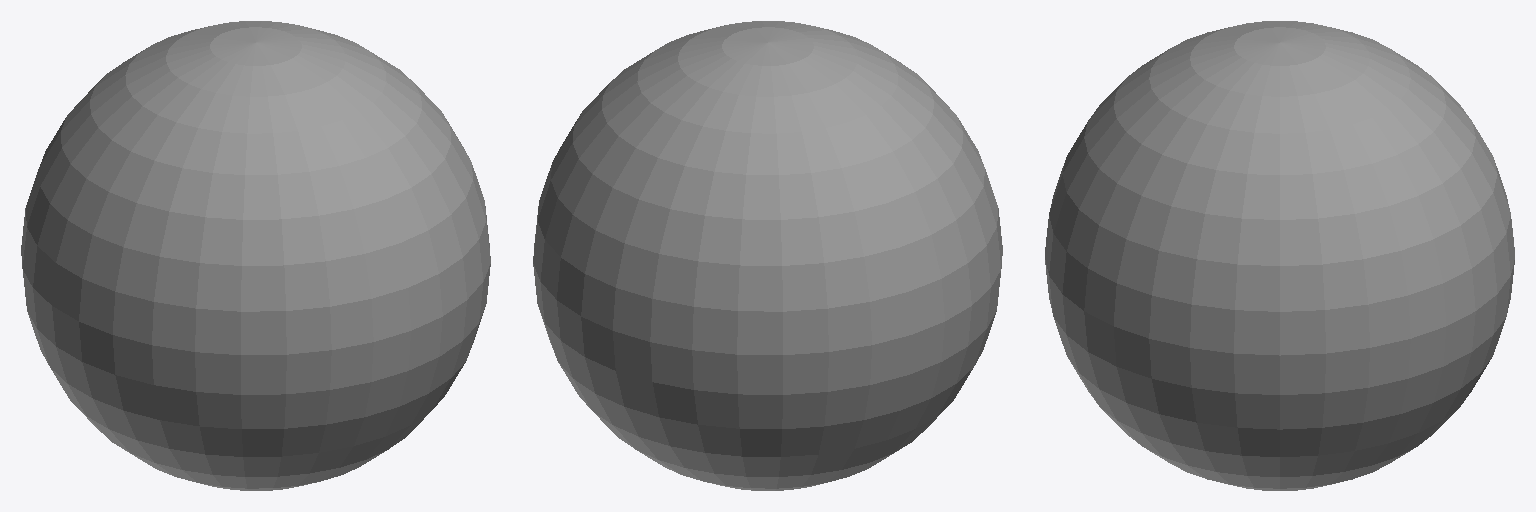
Rendered from alien1.obj.
3 views of the same model, side by side, from view 1: azimuth 30°, elevation 25°; view 2: azimuth 150°, elevation 25°; view 3: azimuth 270°, elevation 25° (orthographic).
Visible parts, largest first — view 1: Cube; view 2: Cube; view 3: Cube.
Part boxes in pixels (x1,y1,x2,y2): Cube: (21, 21, 490, 490); Cube: (533, 21, 1002, 490); Cube: (1045, 21, 1514, 490).
Size of the model in its own units: 2 by 2 by 2.